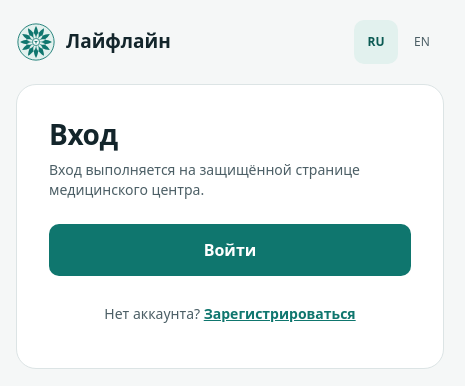
Test: AuthGroupLayout › should offer the language switch and translate the screen when the visitor picks English
The width and height of the screenshot is (465, 386).
Expected: the element named "Язык" is shown, [354,20,444,64]
Click the button "en". click: point(422, 42)
box: [400,20,444,64]
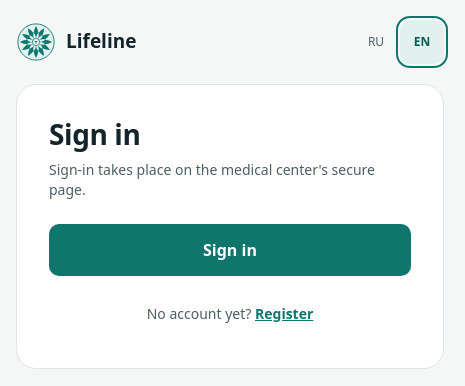
Expected: the element named "Language" is shown, [354,20,444,64]
Expected: the heading reads "Sign in", [49,114,140,152]
